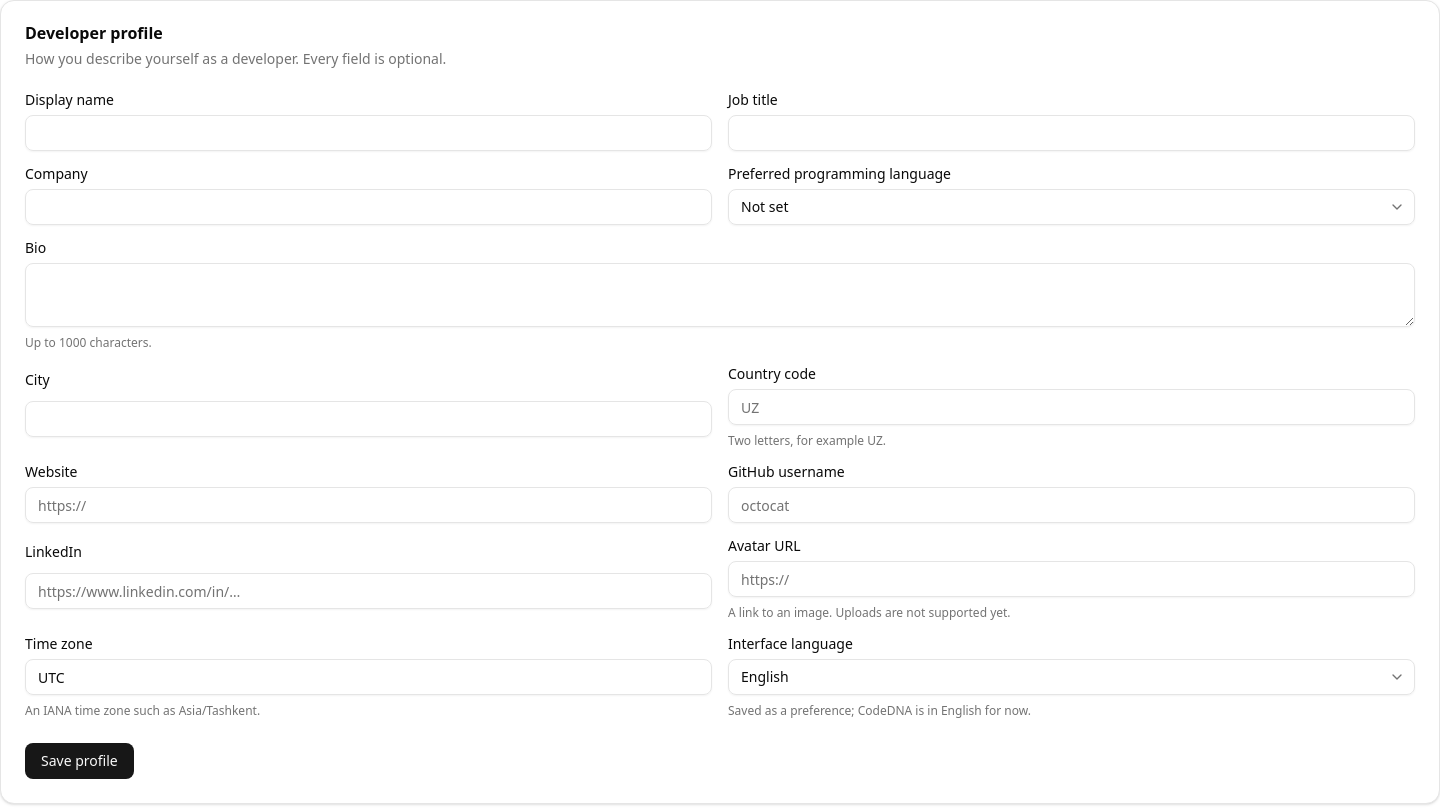
it: ProfileForm › shows server validation errors on the right field
Replace the text in the field labelled "Time zone" with "UTC+5". click: point(368, 677)
box: [25, 659, 712, 695]
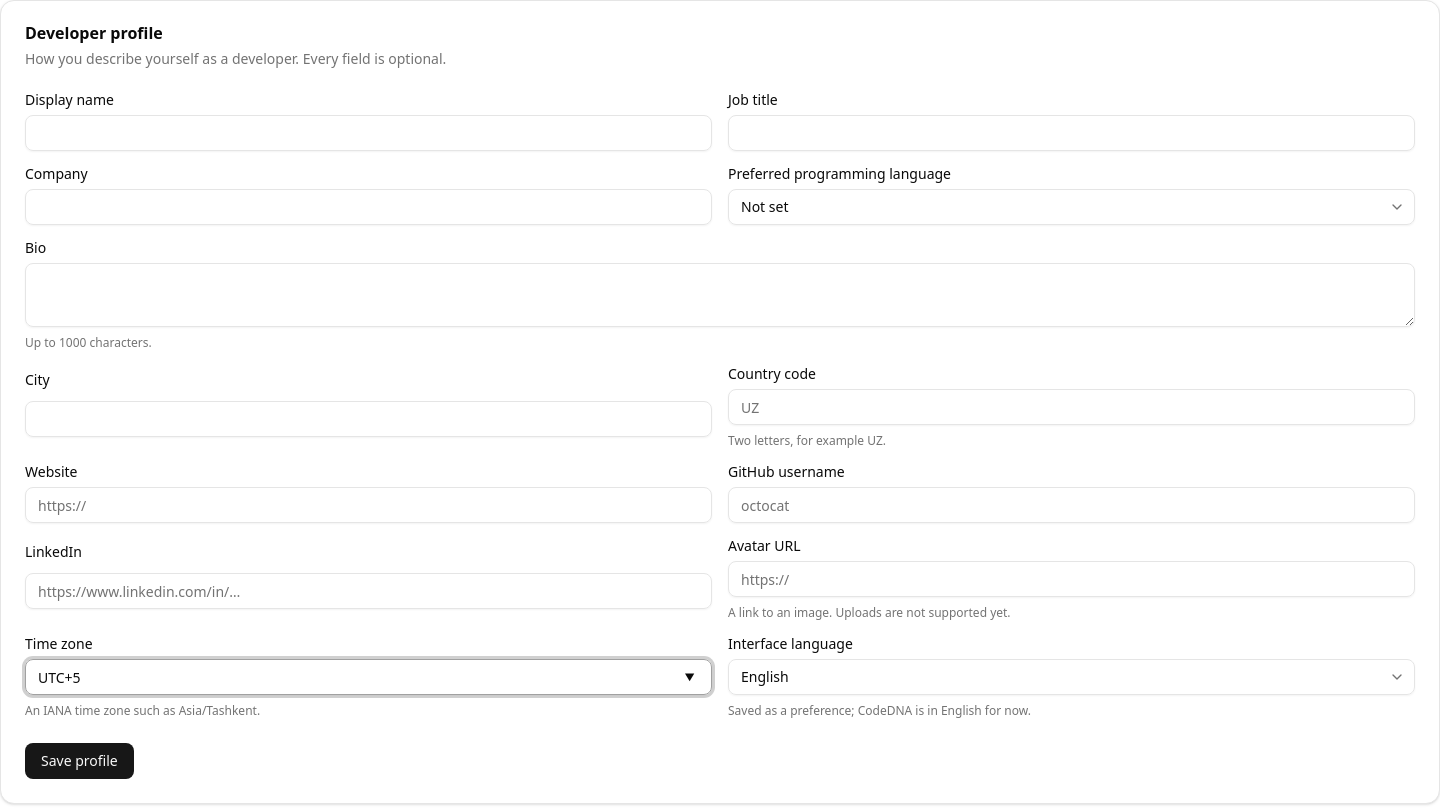
Click the button "Save profile". click: point(79, 761)
box: [25, 743, 134, 779]
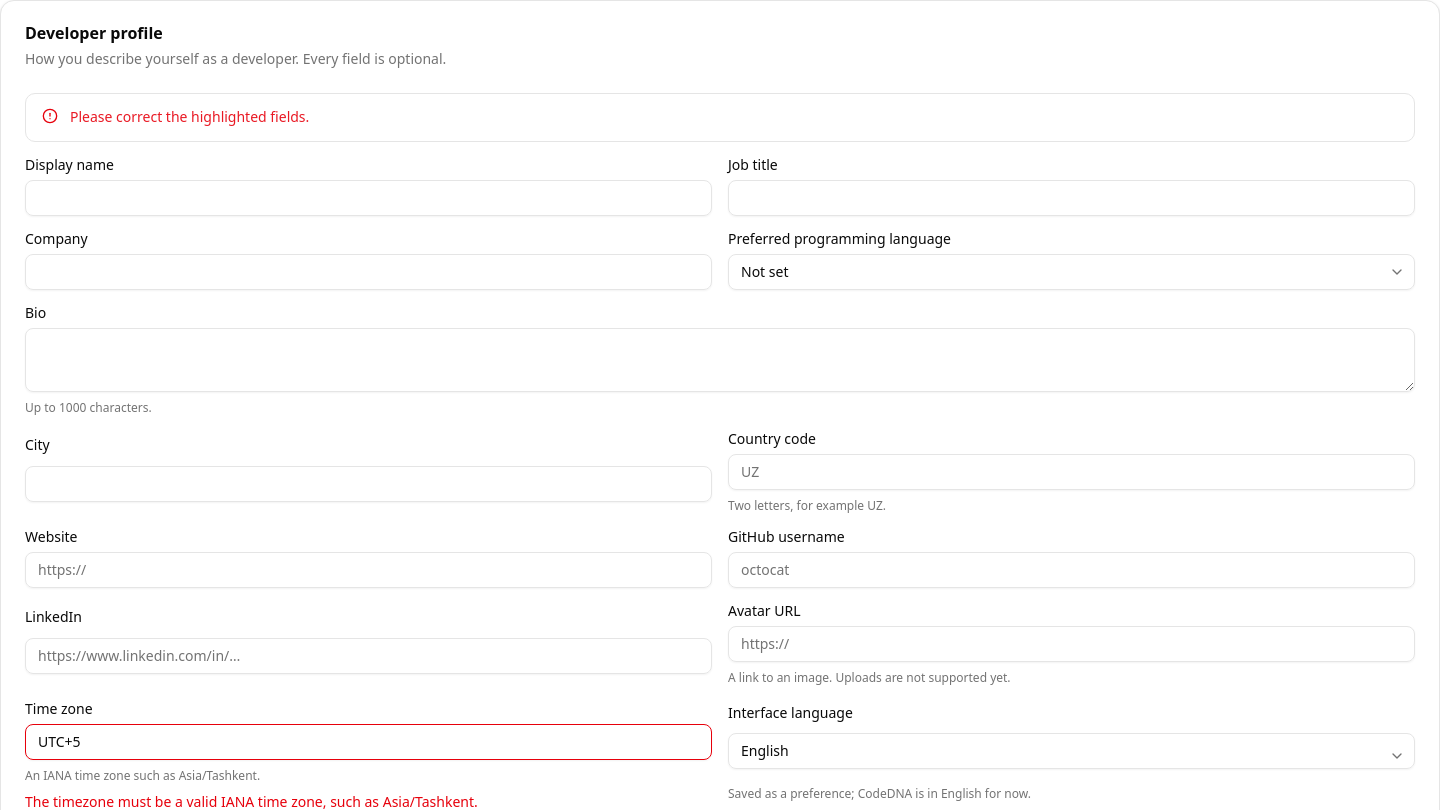
Expected: the text "The timezone must be a valid IANA time zone, such as Asia/Tashkent." is shown, [25, 792, 478, 809]
Expected: the message reads "Please correct the highlighted fields.", [70, 107, 309, 126]
